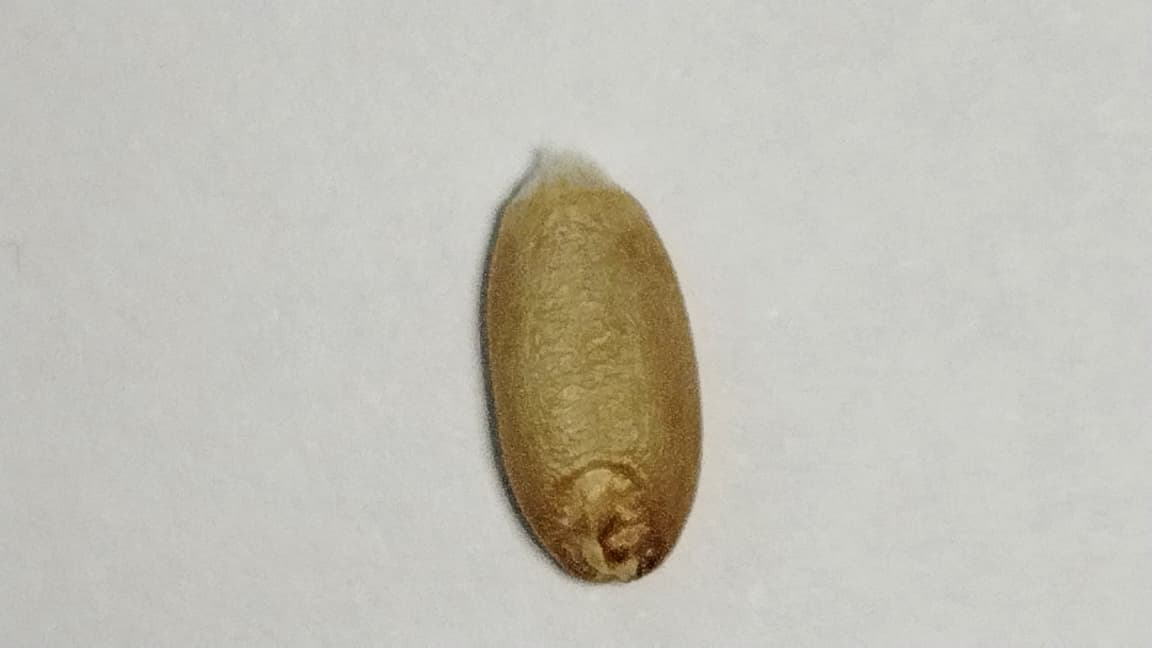healthy: (476, 160, 696, 585)
